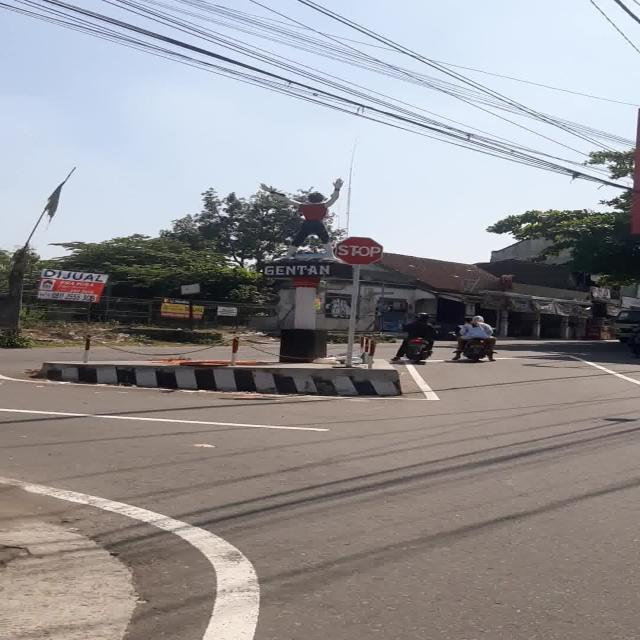Berhenti: (336, 237, 384, 264)
